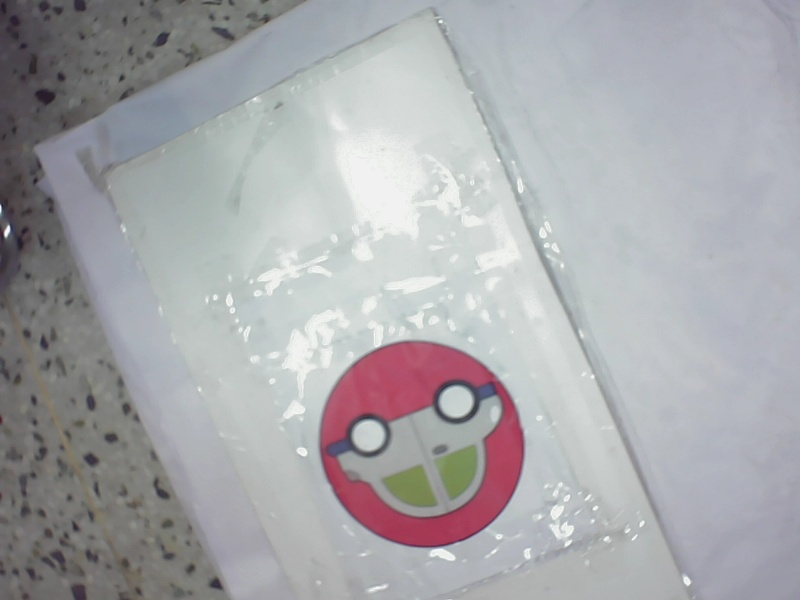areaC: (303, 339, 529, 558)
